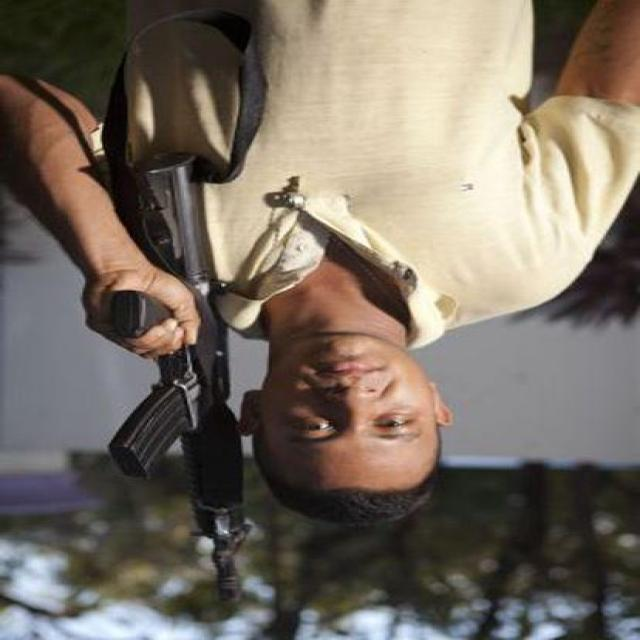Rifle: (102, 153, 257, 607)
